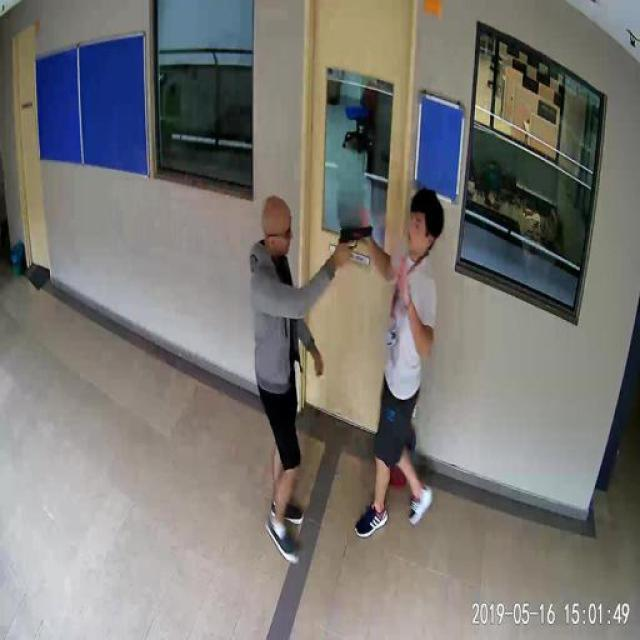weapon: (334, 225, 376, 258)
